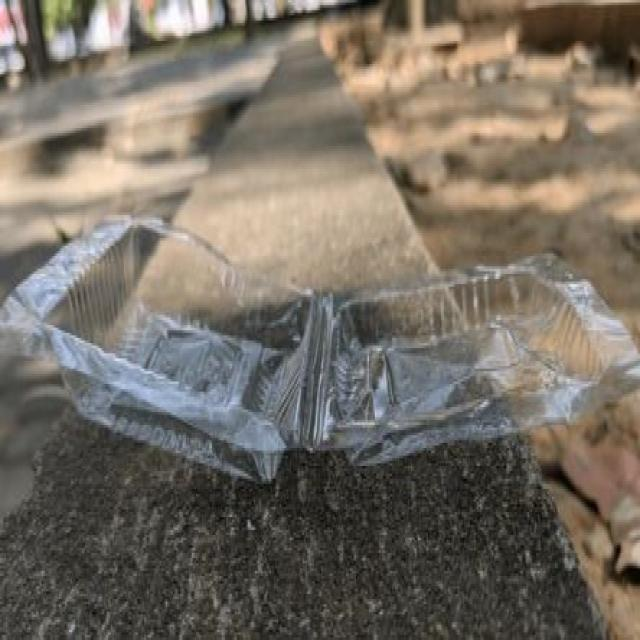general: (0, 210, 639, 486)
